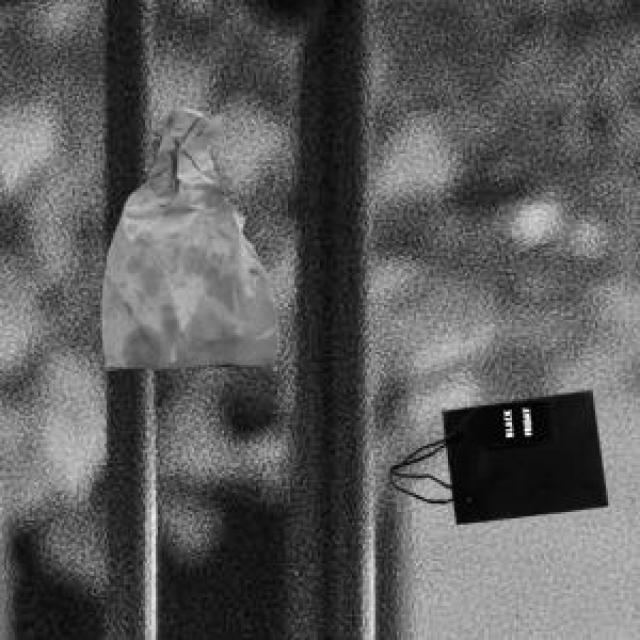paper: (98, 102, 275, 365), (386, 386, 604, 521)
